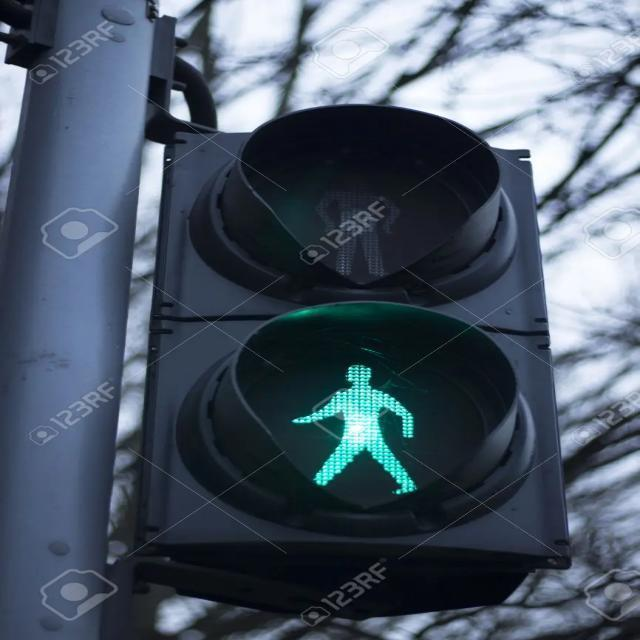green_light: (295, 354, 440, 504)
